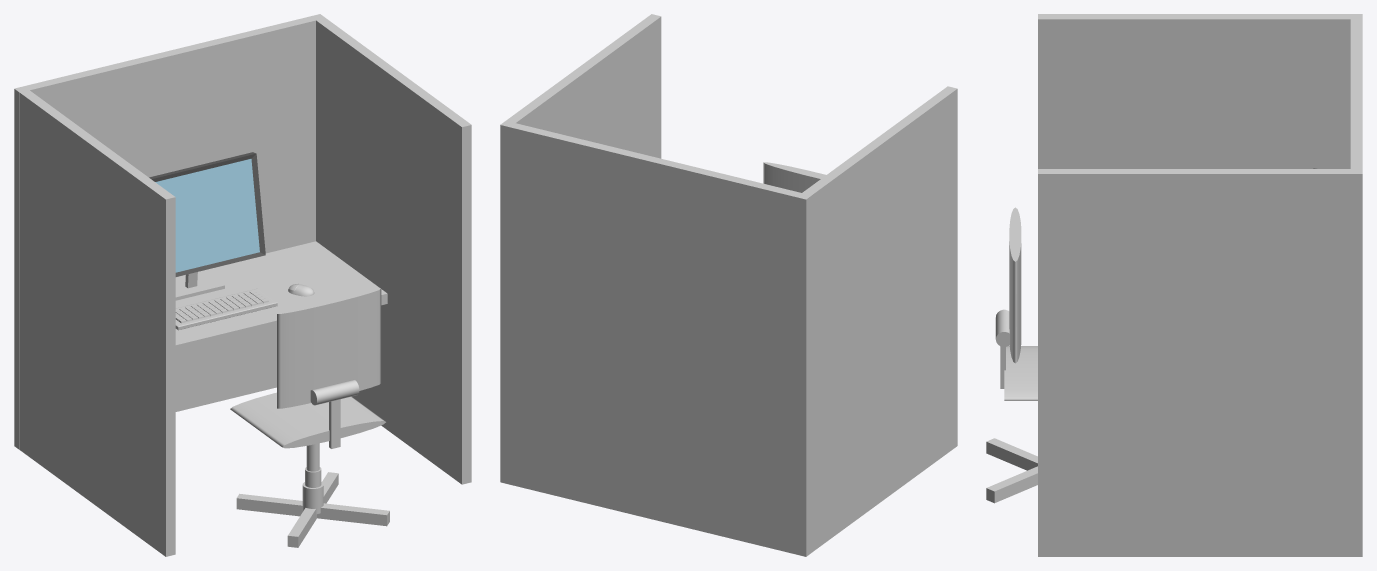
The model's file is Student Services Cubicle.FBX.
The picture shows the model from 3 angles, left to right: view 1: azimuth 30°, elevation 25°; view 2: azimuth 150°, elevation 25°; view 3: azimuth 270°, elevation 25°; orthographic projection. The views are drawn at different scales.
Visible parts, largest first — view 1: Box001, Box002, Box003, Cylinder002, Box005, Box004, Cylinder004, Box011, Box008, Box010, Cylinder003, Box007 (+1 smaller); view 2: Box003, Box001, Box002, Cylinder002; view 3: Box002, Box001, Box003, Cylinder002, Cylinder004, Box011, Box010, Cylinder003.
Part boxes in pixels (bbox=[...]): Box001: bbox=[19, 89, 175, 556]; Box002: bbox=[311, 14, 471, 484]; Box003: bbox=[14, 14, 324, 449]; Cylinder002: bbox=[277, 288, 381, 408]; Box005: bbox=[149, 152, 265, 276]; Box004: bbox=[175, 241, 387, 355]; Cylinder004: bbox=[230, 392, 385, 448]; Box011: bbox=[236, 493, 389, 526]; Box008: bbox=[175, 288, 277, 330]; Box010: bbox=[287, 472, 338, 547]; Cylinder003: bbox=[310, 380, 359, 405]; Box007: bbox=[175, 275, 224, 300]; Box003: bbox=[500, 121, 811, 556]; Box001: bbox=[797, 86, 957, 552]; Box002: bbox=[500, 14, 661, 158]; Cylinder002: bbox=[763, 162, 825, 192]; Box002: bbox=[1038, 169, 1361, 556]; Box001: bbox=[1038, 14, 1361, 168]; Box003: bbox=[1350, 14, 1362, 556]; Cylinder002: bbox=[1009, 207, 1021, 363]; Cylinder004: bbox=[1004, 346, 1037, 400]; Box011: bbox=[986, 466, 1037, 503]; Box010: bbox=[986, 438, 1037, 470]; Cylinder003: bbox=[995, 309, 1009, 346].
Bounding box in the file's own units: 17.44 × 19.46 × 17.33.
